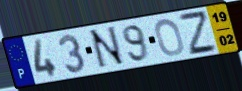3: (57, 32, 87, 75)
4: (33, 37, 59, 79)
9: (122, 23, 151, 63)
N: (87, 25, 128, 71)
O: (154, 17, 186, 57)
Z: (177, 10, 220, 57)
